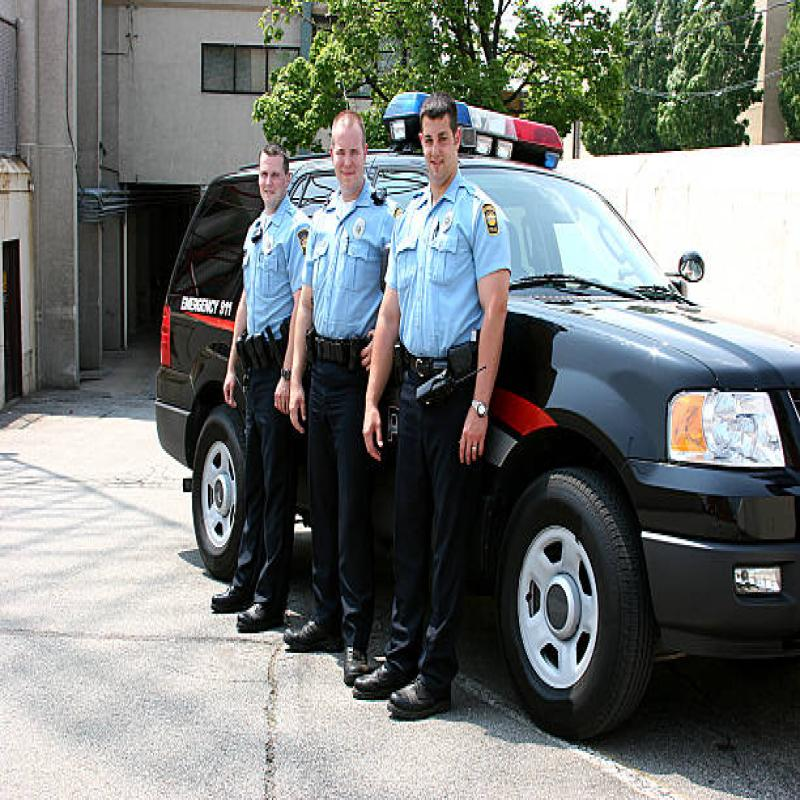AmbulanceSiren: (375, 72, 571, 168)
